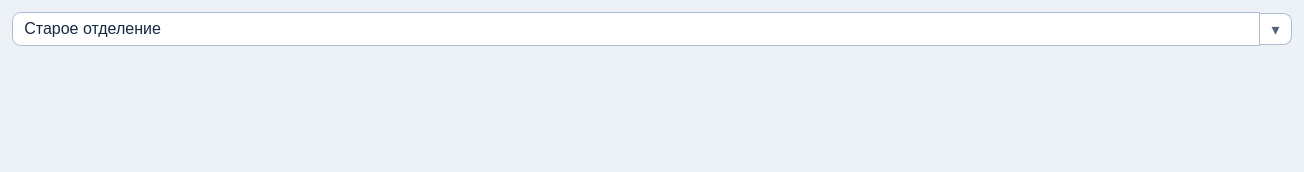
Test case: keeps archived department selection local and offers explicit option controls
Later steps or results of the test are not shown.
Click the button named "Показать ранее введённые отделения".
click(1276, 29)  # box [1260,13,1292,45]
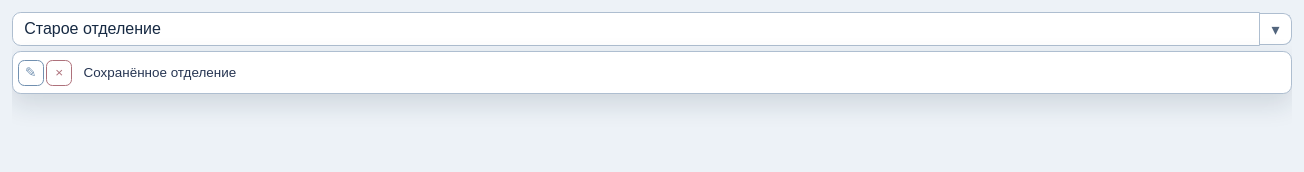
Now the button named "Изменить значение" is shown, box [18,60,44,86]
Now the button named "Удалить значение" is shown, box [46,60,72,86]
